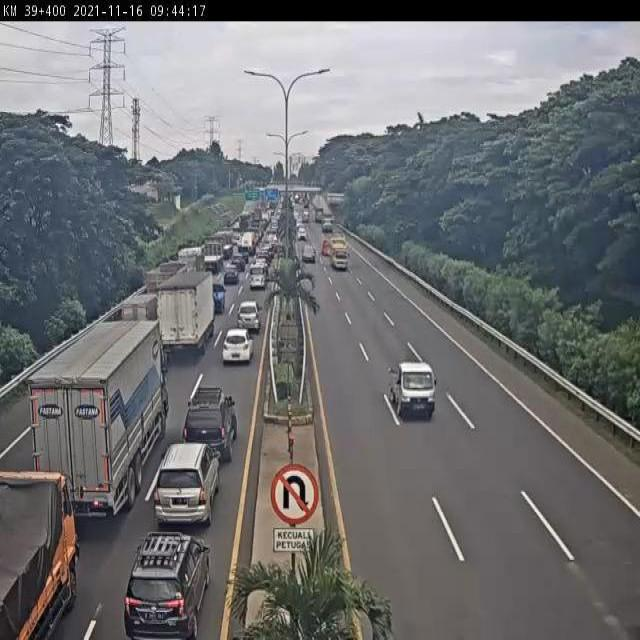car: (122, 532, 214, 640), (156, 443, 217, 521), (184, 377, 235, 447), (391, 363, 437, 416), (224, 329, 249, 368), (233, 296, 259, 328), (250, 264, 268, 291), (222, 264, 241, 287)
small truck: (117, 290, 159, 326), (329, 240, 351, 273), (298, 245, 318, 271)
truck-l-: (26, 325, 159, 520)
truck-m-: (0, 466, 69, 640), (162, 270, 217, 358)
